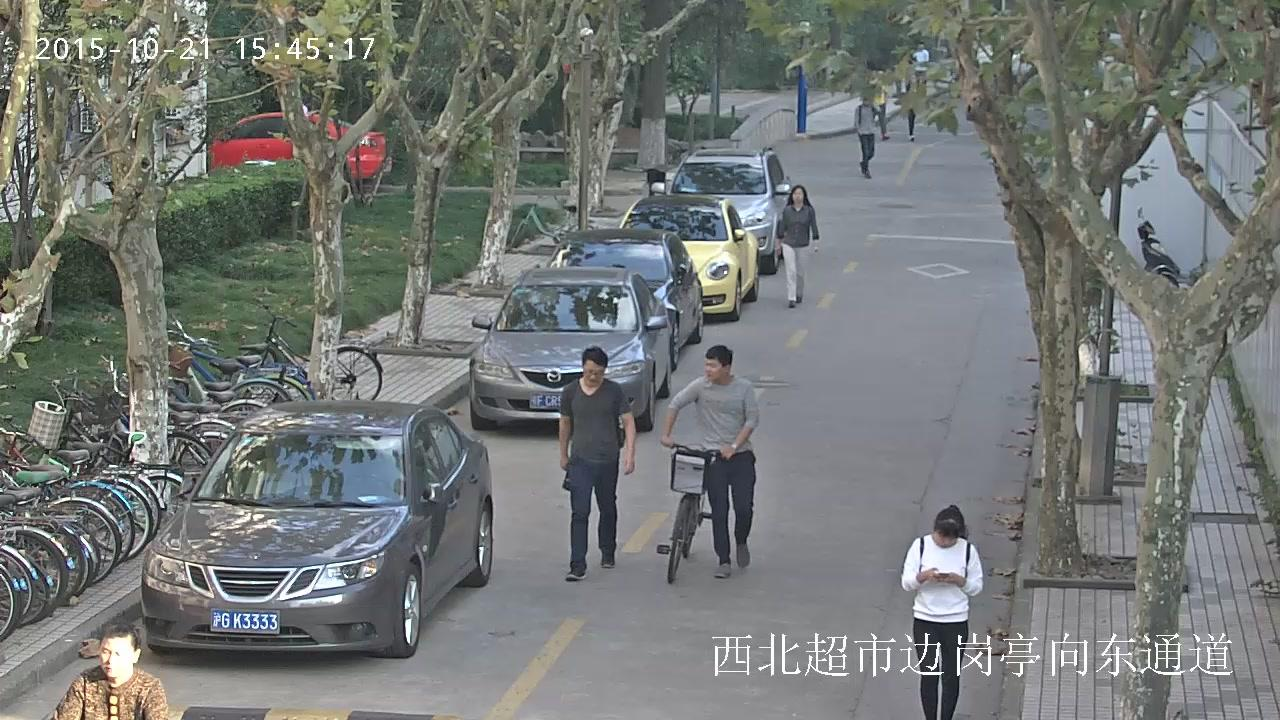face: (98, 636, 132, 676), (582, 360, 603, 387), (703, 356, 725, 379), (932, 529, 956, 547), (792, 188, 803, 201), (863, 99, 869, 104), (918, 43, 923, 47)
